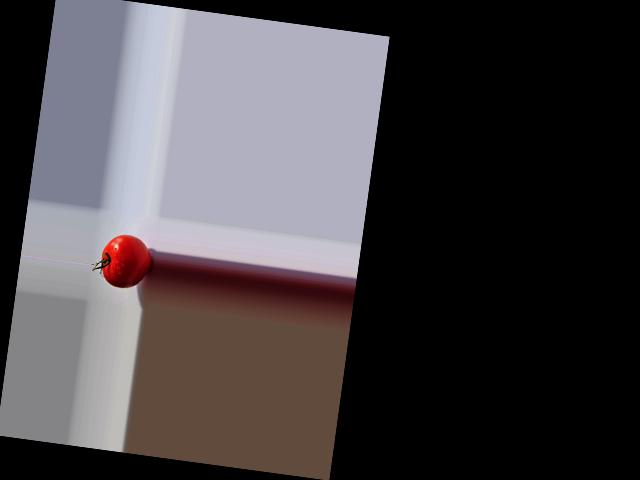tomato: (99, 231, 154, 291)
